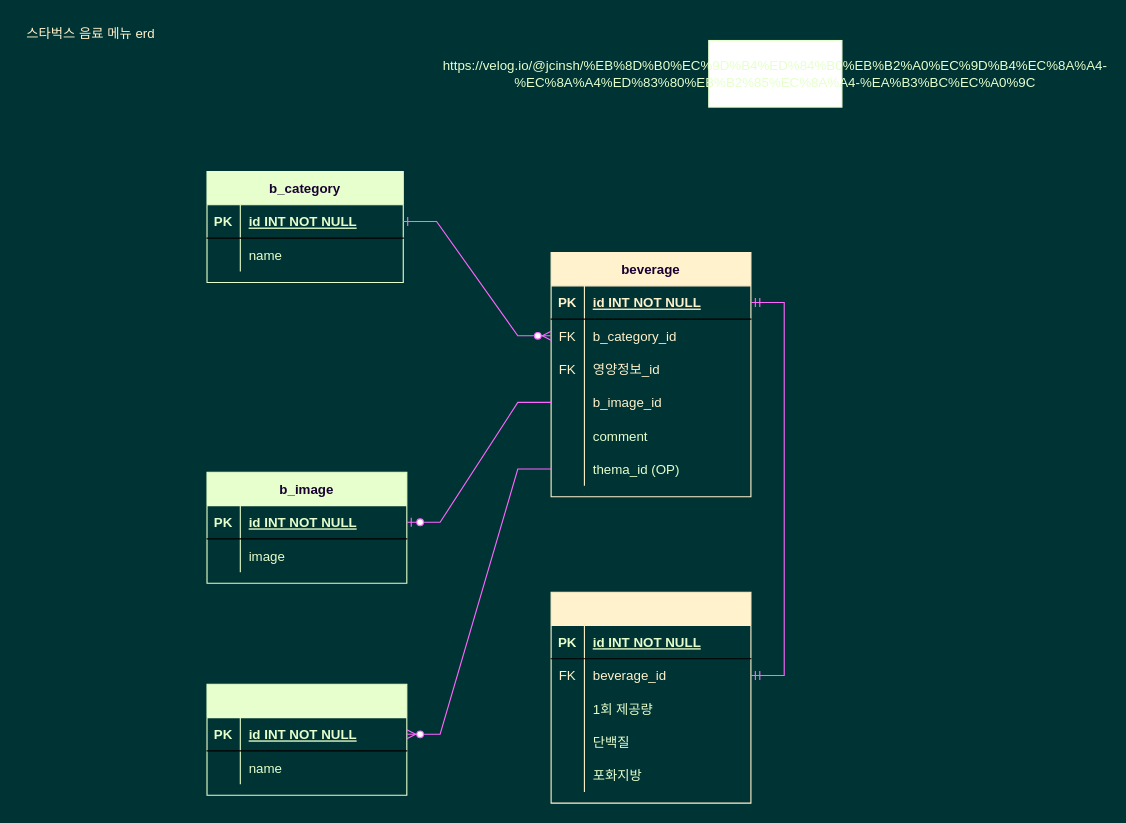
The diagram is 1126 pixels wide and 823 high, and some of its shapes have lost their labels. The box of each missing label's shape, as (x1, y1, x2, y2) in pixels:
thema: (206, 683, 407, 795)
영양정보: (550, 591, 751, 803)
